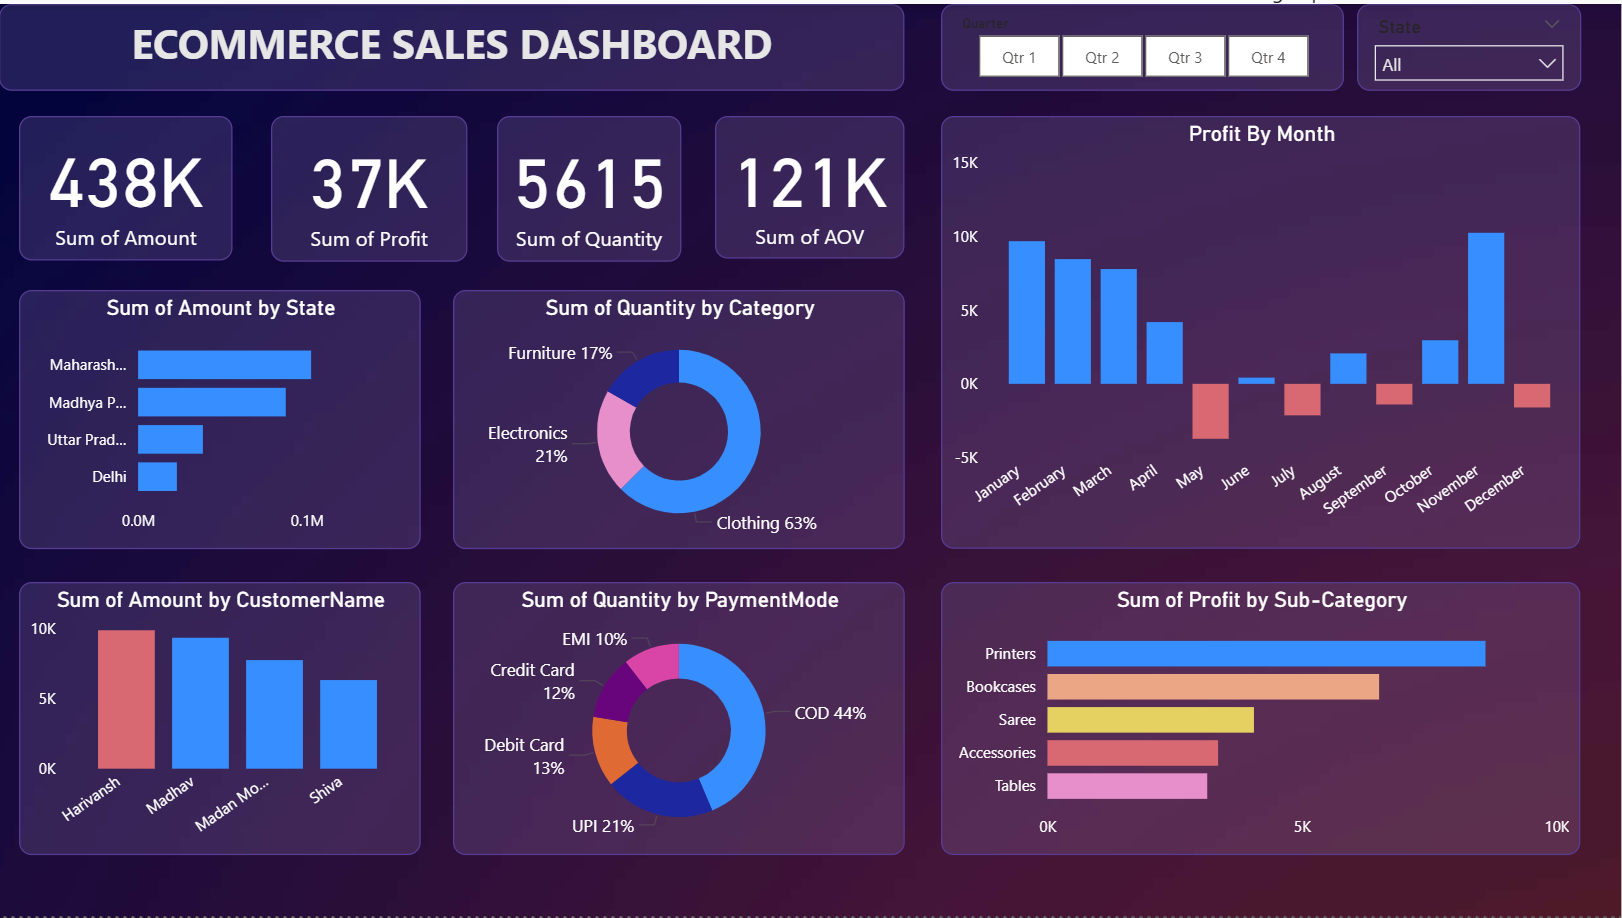

The dashboard page shown, as its layout file describes it:
{"tool":"powerbi","page":{"name":"Page 1","canvas":[1280,720],"ordinal":0},"visuals":[{"type":"textbox","box":[0,0,714.5,68.6],"z":0},{"type":"columnChart","title":"Profit By Month","fields":{"Y":["Details.Profit"],"Category":["Orders.Order Date.Variation.Date Hierarchy.Month"]},"box":[743.3,87.8,504.7,341.5],"z":1000},{"type":"barChart","fields":{"Category":["Details.Sub-Category"],"Y":["Details.Profit"]},"box":[743.3,456.7,504.7,215.3],"z":2000},{"type":"donutChart","fields":{"Category":["Details.Category"],"Y":["Details.Quantity"]},"box":[357.9,224.9,356.6,204.3],"z":3000},{"type":"donutChart","fields":{"Y":["Details.Quantity"],"Category":["Details.PaymentMode"]},"box":[357.9,456.7,356.6,215.3],"z":4000},{"type":"card","fields":{"Values":["Details.Amount"]},"box":[15.1,89.1,168.7,113.8],"z":5000},{"type":"card","fields":{"Values":["Details.Profit"]},"box":[213.9,89.1,155,115.2],"z":6000},{"type":"card","fields":{"Values":["Details.Quantity"]},"box":[393.6,89.1,145.4,115.2],"z":7000},{"type":"card","fields":{"Values":["Details.AOV"]},"box":[565,89.1,149.5,112.5],"z":8000},{"type":"barChart","fields":{"Category":["Orders.State"],"Y":["Details.Amount"]},"box":[15.1,226.3,316.8,204.3],"z":9000},{"type":"columnChart","fields":{"Category":["Orders.CustomerName"],"Y":["Details.Amount"]},"box":[16.5,456.7,316.8,215.3],"z":10000},{"type":"slicer","fields":{"Values":["Orders.Order Date.Variation.Date Hierarchy.Quarter"]},"box":[743.3,0,318.2,68.6],"z":11000},{"type":"slicer","fields":{"Values":["Orders.State"]},"box":[1071.1,0,176.9,68.6],"z":12000}]}

Visuals, with their boxes in screenshot pixels (x1, y1, x2, y2), scaled from the page's 1280x720 canvas onto the 1622x918 screenshot:
textbox: left=0, top=0, right=905, bottom=87
"Profit By Month" columnChart: left=942, top=112, right=1581, bottom=547
barChart - Details.Sub-Category x Details.Profit: left=942, top=582, right=1581, bottom=857
donutChart - Details.Category x Details.Quantity: left=454, top=287, right=905, bottom=547
donutChart - Details.Quantity x Details.PaymentMode: left=454, top=582, right=905, bottom=857
card - Details.Amount: left=19, top=114, right=233, bottom=259
card - Details.Profit: left=271, top=114, right=467, bottom=260
card - Details.Quantity: left=499, top=114, right=683, bottom=260
card - Details.AOV: left=716, top=114, right=905, bottom=257
barChart - Orders.State x Details.Amount: left=19, top=289, right=421, bottom=549
columnChart - Orders.CustomerName x Details.Amount: left=21, top=582, right=422, bottom=857
slicer - Orders.Order Date.Variation.Date Hierarchy.Quarter: left=942, top=0, right=1345, bottom=87
slicer - Orders.State: left=1357, top=0, right=1581, bottom=87
